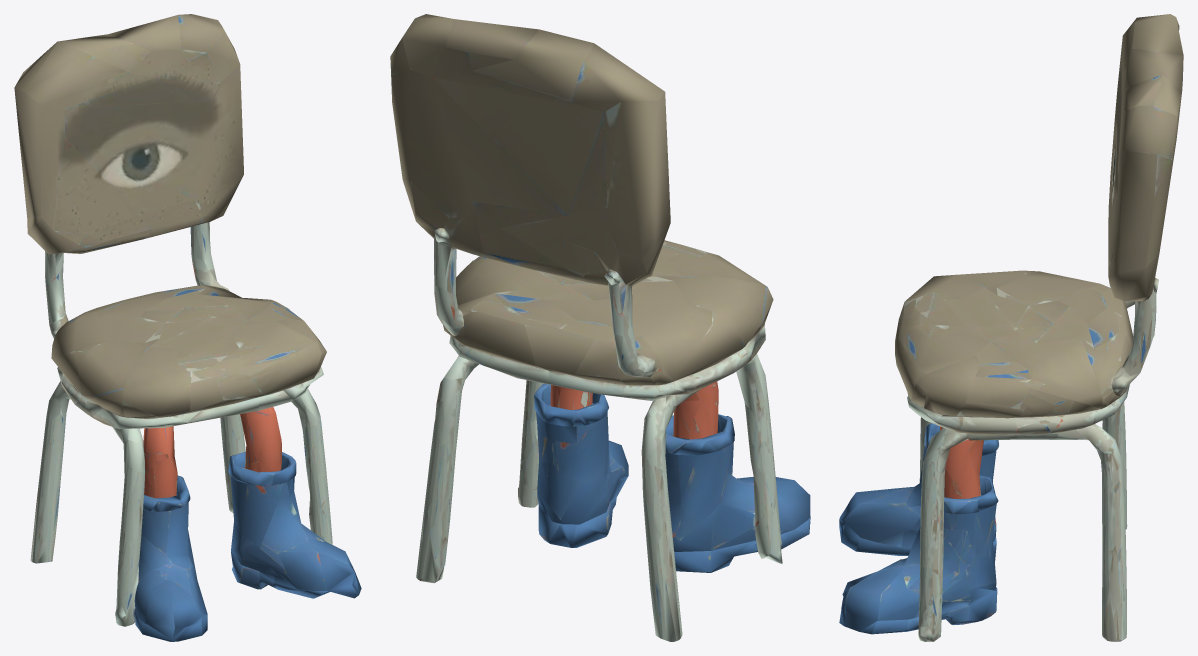
File: eye_chair.glb
3 views of the same model, side by side, from view 1: azimuth 30°, elevation 25°; view 2: azimuth 150°, elevation 25°; view 3: azimuth 270°, elevation 25° (orthographic). The views are drawn at different scales.
Size of the model in its own units: 0.9034 by 1.89 by 1.09.
Materials: 1 (1 with a texture image).
